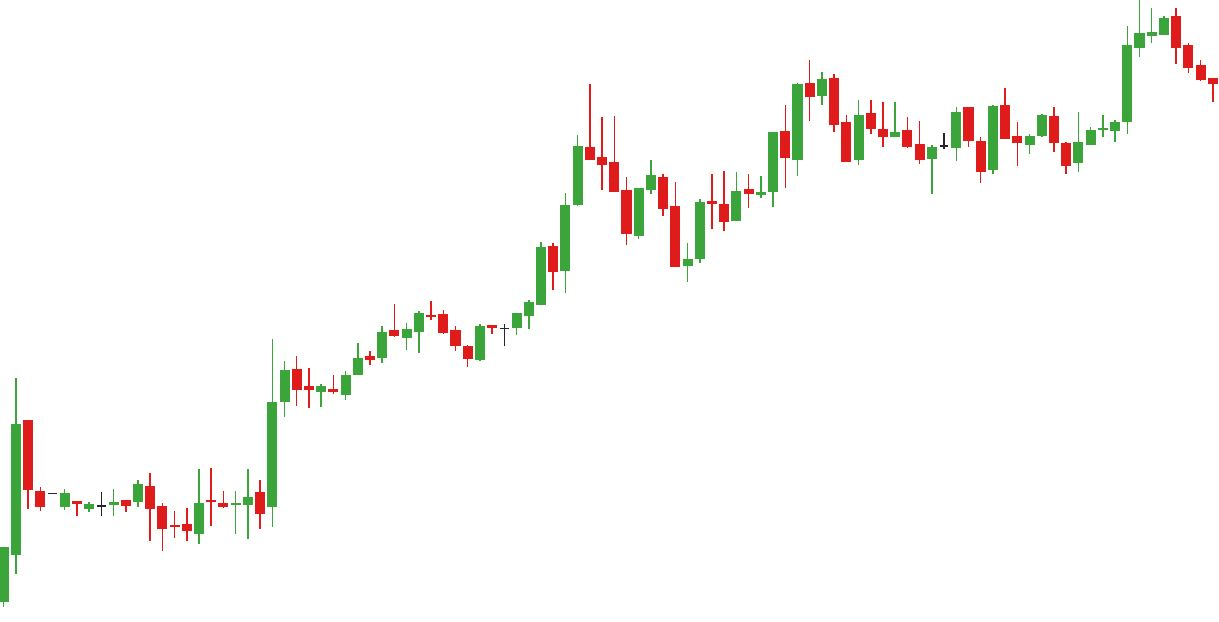buy: (621, 174, 708, 283), (414, 308, 488, 369)
